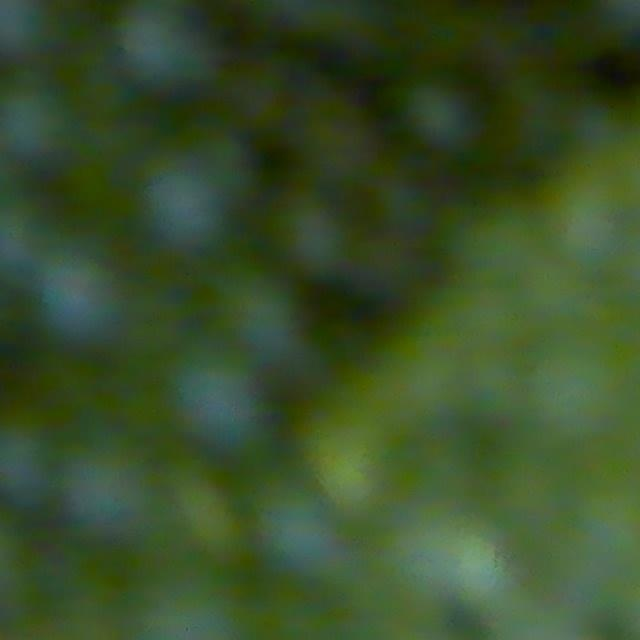SeaGrape: (518, 330, 635, 447), (56, 445, 162, 546), (540, 167, 632, 274), (130, 554, 244, 640), (248, 473, 340, 574), (171, 350, 269, 444), (133, 146, 218, 250), (32, 255, 125, 342), (214, 270, 304, 359), (0, 71, 83, 159), (119, 0, 202, 85), (275, 197, 356, 281), (0, 193, 66, 285), (402, 80, 478, 154), (0, 414, 62, 495)
